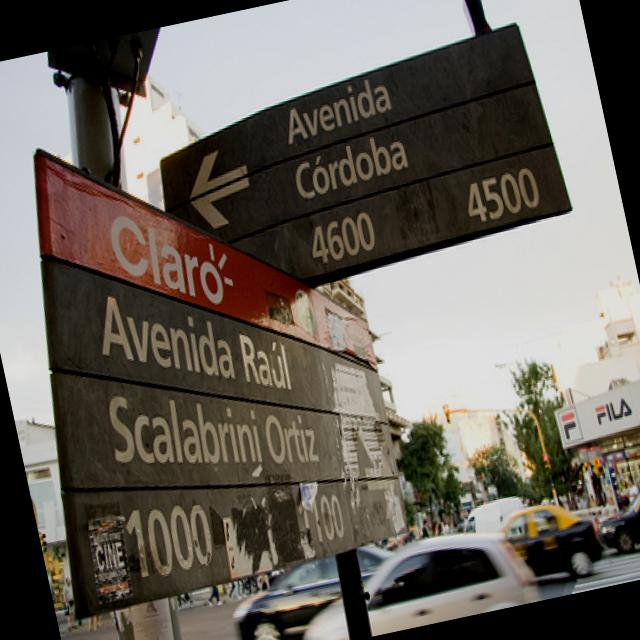Vehicle: (286, 523, 539, 640), (220, 537, 412, 640), (493, 490, 608, 595), (454, 486, 536, 545), (592, 479, 640, 560)
